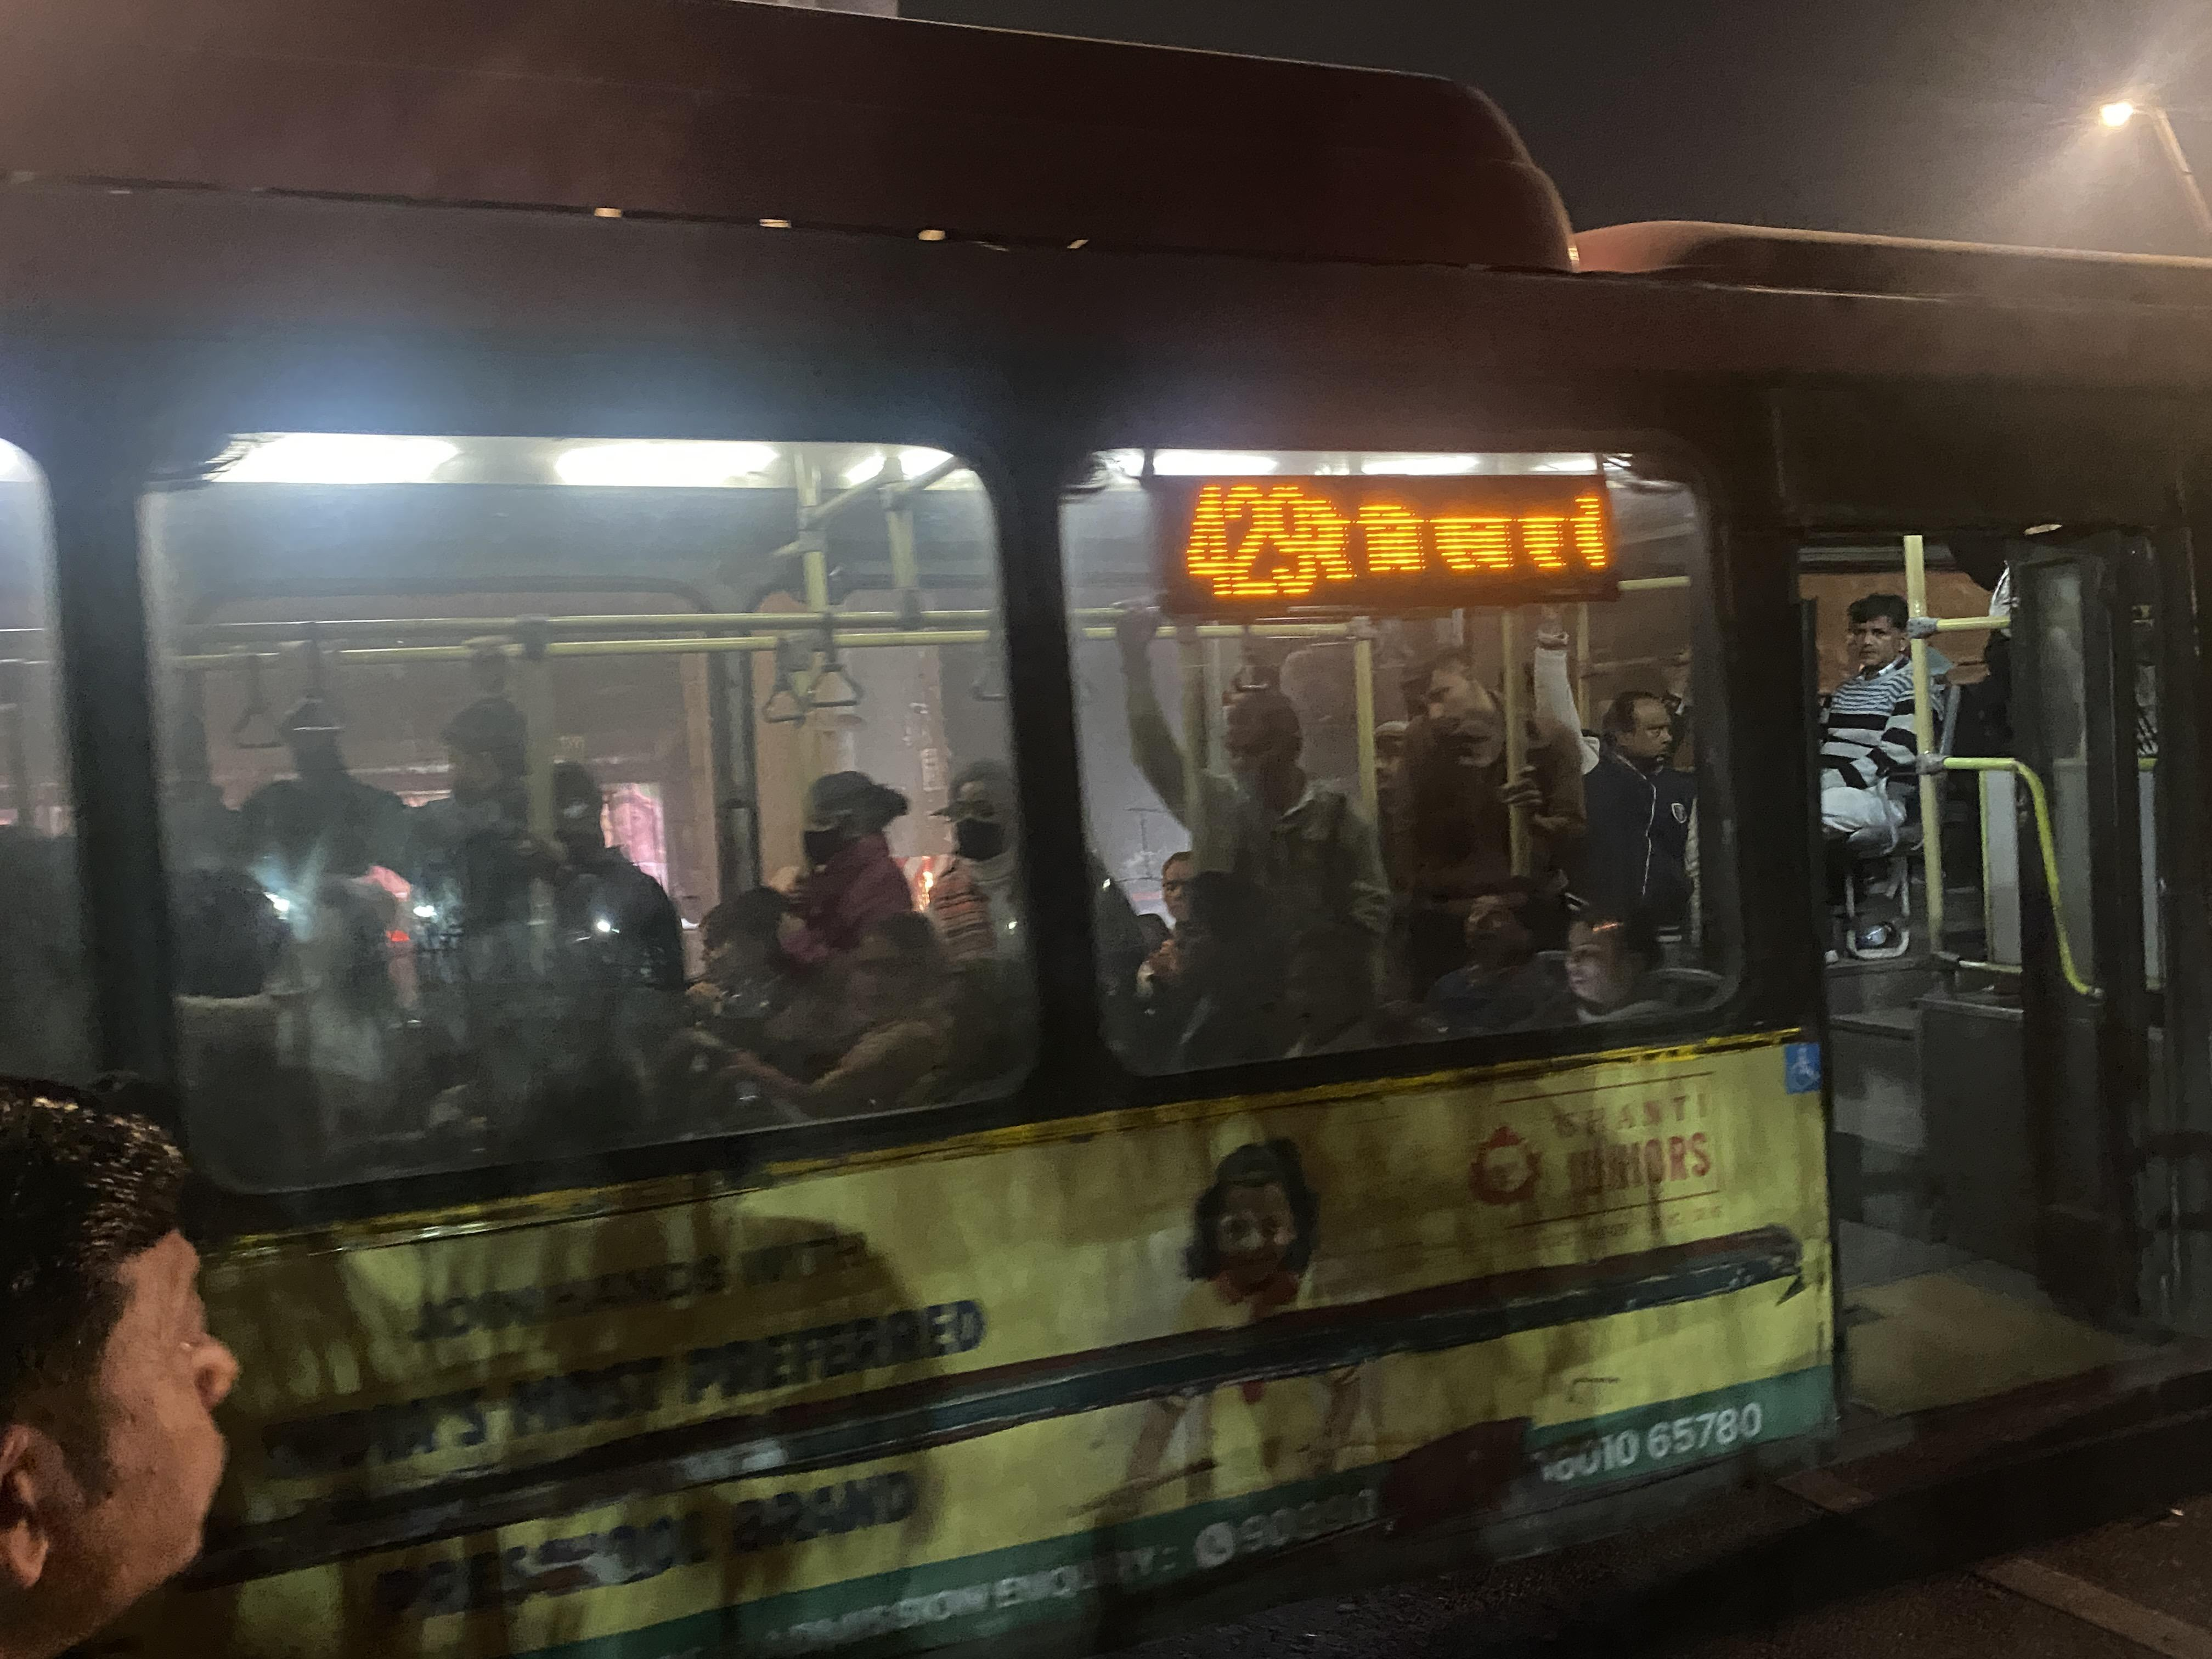Bus: (10, 0, 2212, 1659)
Display Board: (1158, 455, 1717, 647)
